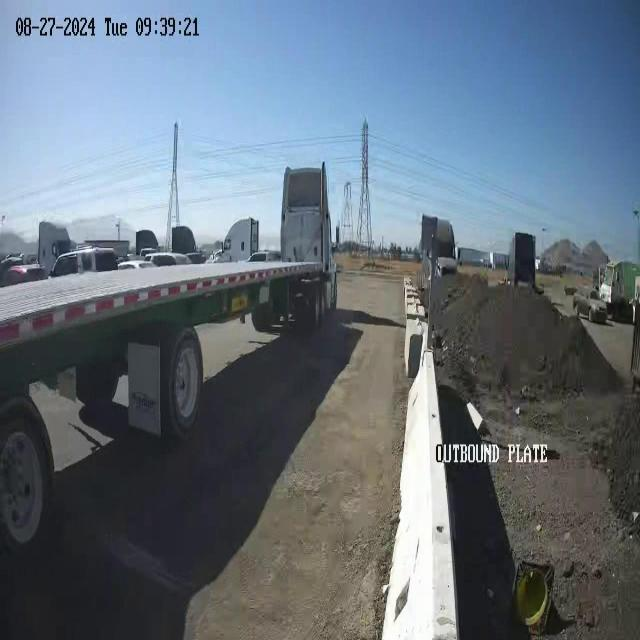TRUCK_IN: (0, 160, 338, 554)
